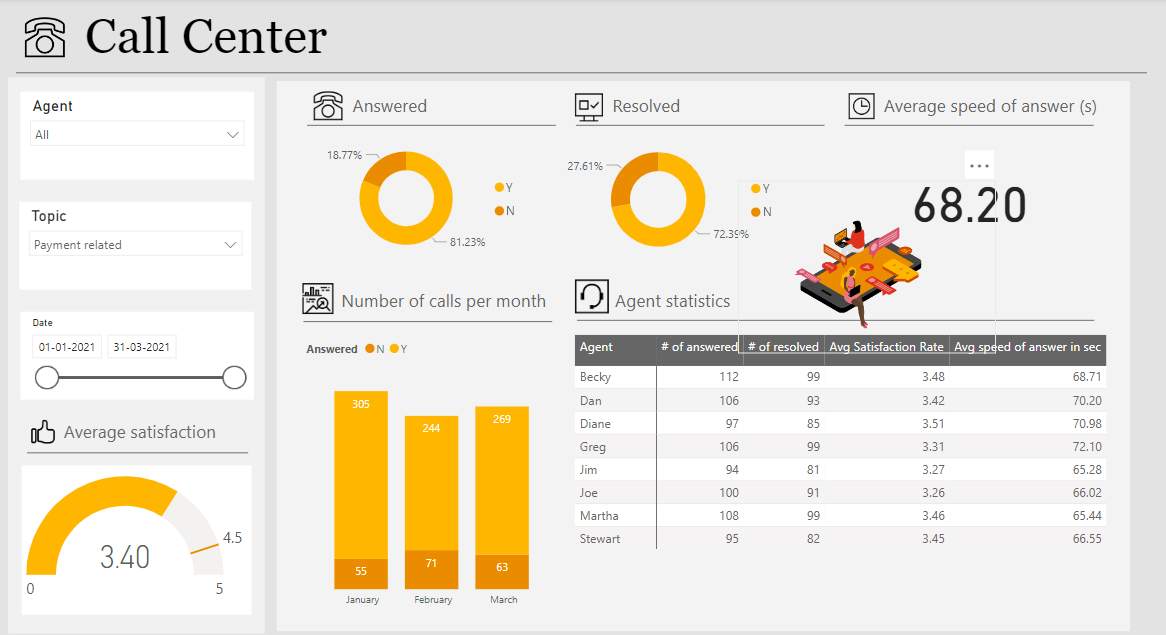

Layout of this report page (visuals, bound fields, positions):
{"tool":"powerbi","page":{"name":"Call Center Manager","canvas":[1280,720],"ordinal":0},"visuals":[{"type":"textbox","box":[89.7,4.8,1172,75.2],"z":0},{"type":"basicShape","box":[9,61,1244.3,40.1],"z":1000},{"type":"basicShape","box":[8.7,80.1,283.6,614.4],"z":2000},{"type":"basicShape","box":[292.6,83.8,942.7,607.6],"z":3000},{"type":"image","box":[24.1,7.7,53.1,68.5],"z":5000},{"type":"columnChart","fields":{"Category":["Call Center.Date.Variation.Date Hierarchy.Month"],"Y":["Call Center.Call Id"],"Series":["Call Center.Answered (Y/N)"]},"box":[329.5,359.7,284.8,308.3],"z":6000},{"type":"slicer","fields":{"Values":["Call Center.Date"]},"box":[24.6,339.5,252.4,94.9],"z":7000},{"type":"pivotTable","fields":{"Rows":["Call Center.Agent"],"Values":["Call Center.# of answered","Call Center.# of resolved","Call Center.Satisfaction rating","Call Center.Speed of answer in seconds"]},"box":[619.9,359.7,607.6,279.2],"z":8000},{"type":"slicer","fields":{"Values":["Call Center.Agent"]},"box":[24.6,101.6,252.4,95],"z":9000},{"type":"slicer","fields":{"Values":["Call Center.Topic"]},"box":[23.5,220.6,251.3,94.9],"z":10000},{"type":"donutChart","fields":{"Category":["Call Center.Resolved"],"Y":["Call Center.Resolved"]},"box":[611,143,242.4,149.7],"z":11000},{"type":"gauge","fields":{"Y":["Call Center.Satisfaction rating"],"MaxValue":["Call Center.Satisfaction rating"],"TargetValue":["Call Center.Target Value Satisfaction"]},"box":[25.7,506,249.1,162],"z":12000},{"type":"image","box":[31.1,452.4,35.7,35.7],"z":13000},{"type":"textbox","box":[66.8,452.4,188.1,35.7],"z":14000},{"type":"basicShape","box":[21.2,472.5,259.1,40.2],"z":15000},{"type":"donutChart","fields":{"Category":["Call Center.Answered (Y/N)"],"Y":["Call Center.Answered (Y/N)"]},"box":[341.8,141.8,232.3,149.7],"z":16000},{"type":"textbox","box":[378.6,98.3,172,35.7],"z":17000},{"type":"textbox","box":[660.1,98.3,183.2,35.7],"z":18000},{"type":"card","fields":{"Values":["Call Center.Speed of answer in seconds"]},"box":[953.9,148.6,196.6,136.3],"z":19000},{"type":"basicShape","box":[906.9,118.4,289.3,40.2],"z":20000},{"type":"textbox","box":[953.9,98.3,250.2,35.7],"z":21000},{"type":"basicShape","box":[325,118.4,289,40.2],"z":22000},{"type":"basicShape","box":[616,118.4,289,40.2],"z":23000},{"type":"image","box":[915.9,88.2,38,59.2],"z":24000},{"type":"image","box":[337.3,94.9,41.3,43.6],"z":25000},{"type":"image","box":[619.9,88.2,40.2,61.4],"z":26000},{"type":"textbox","box":[367.4,310.5,250.2,35.7],"z":27000},{"type":"basicShape","box":[320.5,330.6,289.3,40.2],"z":28000},{"type":"textbox","box":[663.4,309.3,250.2,35.7],"z":29000},{"type":"basicShape","box":[616.5,329.5,579.7,40.2],"z":30000},{"type":"image","box":[619.9,294.9,46.9,55.8],"z":31000},{"type":"image","box":[325,290.4,43.6,69.2],"z":32000},{"type":"image","box":[800.6,197.7,278.8,187.1],"z":33000}]}

Visuals, with their boxes on the page's 1280x720 design canvas (x1, y1, x2, y2). These are canvas units, not pixel positions in the 1166x635 screenshot, which may show the page scaled, cropped or inside an application window:
textbox: [left=90, top=5, right=1262, bottom=80]
basicShape: [left=9, top=61, right=1253, bottom=101]
basicShape: [left=9, top=80, right=292, bottom=694]
basicShape: [left=293, top=84, right=1235, bottom=691]
image: [left=24, top=8, right=77, bottom=76]
columnChart - Call Center.Date.Variation.Date Hierarchy.Month x Call Center.Call Id: [left=330, top=360, right=614, bottom=668]
slicer - Call Center.Date: [left=25, top=340, right=277, bottom=434]
pivotTable - Call Center.Agent x Call Center.# of answered: [left=620, top=360, right=1228, bottom=639]
slicer - Call Center.Agent: [left=25, top=102, right=277, bottom=197]
slicer - Call Center.Topic: [left=24, top=221, right=275, bottom=316]
donutChart - Call Center.Resolved x Call Center.Resolved: [left=611, top=143, right=853, bottom=293]
gauge - Call Center.Satisfaction rating x Call Center.Satisfaction rating: [left=26, top=506, right=275, bottom=668]
image: [left=31, top=452, right=67, bottom=488]
textbox: [left=67, top=452, right=255, bottom=488]
basicShape: [left=21, top=472, right=280, bottom=513]
donutChart - Call Center.Answered (Y/N) x Call Center.Answered (Y/N): [left=342, top=142, right=574, bottom=292]
textbox: [left=379, top=98, right=551, bottom=134]
textbox: [left=660, top=98, right=843, bottom=134]
card - Call Center.Speed of answer in seconds: [left=954, top=149, right=1150, bottom=285]
basicShape: [left=907, top=118, right=1196, bottom=159]
textbox: [left=954, top=98, right=1204, bottom=134]
basicShape: [left=325, top=118, right=614, bottom=159]
basicShape: [left=616, top=118, right=905, bottom=159]
image: [left=916, top=88, right=954, bottom=147]
image: [left=337, top=95, right=379, bottom=138]
image: [left=620, top=88, right=660, bottom=150]
textbox: [left=367, top=310, right=618, bottom=346]
basicShape: [left=320, top=331, right=610, bottom=371]
textbox: [left=663, top=309, right=914, bottom=345]
basicShape: [left=616, top=330, right=1196, bottom=370]
image: [left=620, top=295, right=667, bottom=351]
image: [left=325, top=290, right=369, bottom=360]
image: [left=801, top=198, right=1079, bottom=385]
